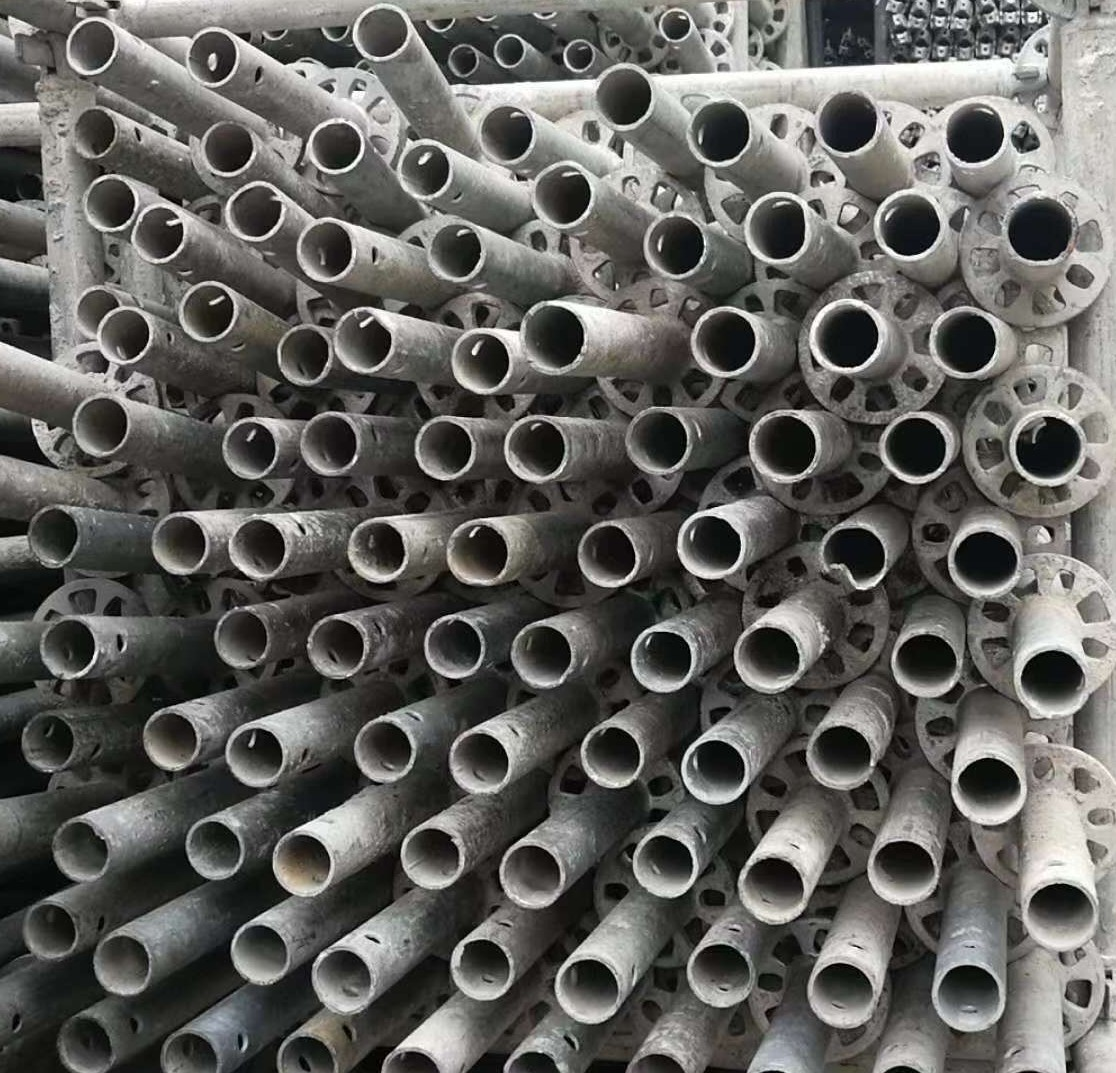circle_steel: (1003, 410, 1090, 489), (943, 521, 1026, 598), (874, 407, 953, 485), (947, 753, 1031, 826), (924, 304, 1002, 381), (745, 410, 825, 484), (811, 299, 887, 376), (1022, 877, 1100, 951), (931, 960, 1005, 1036), (624, 621, 702, 693), (732, 857, 813, 926), (741, 191, 816, 265), (1004, 192, 1077, 268), (686, 307, 764, 378), (394, 820, 469, 893), (874, 189, 946, 265), (527, 157, 598, 234), (732, 621, 806, 694), (552, 955, 627, 1027), (640, 207, 710, 284), (815, 522, 892, 592), (802, 961, 881, 1029), (1018, 644, 1090, 718), (342, 513, 413, 588), (445, 515, 515, 591), (676, 735, 748, 808), (675, 510, 749, 581), (518, 303, 588, 378), (446, 932, 518, 1004), (686, 99, 757, 172), (502, 414, 575, 485), (506, 619, 580, 689), (867, 837, 943, 905), (814, 85, 880, 163), (805, 720, 877, 791), (626, 401, 694, 476), (46, 813, 115, 886), (496, 841, 569, 910), (331, 306, 401, 377), (420, 610, 488, 683), (890, 630, 963, 698), (447, 327, 518, 396), (146, 508, 215, 579), (308, 945, 377, 1016), (592, 62, 660, 134), (942, 96, 1009, 169), (303, 612, 370, 683), (630, 834, 701, 901), (226, 513, 292, 585), (352, 713, 417, 786), (687, 940, 755, 1009), (298, 407, 363, 479), (224, 722, 291, 791), (67, 391, 133, 461), (575, 520, 641, 590), (272, 833, 340, 900), (422, 217, 488, 286), (447, 728, 513, 797), (225, 920, 292, 987), (36, 612, 101, 681), (346, 1, 416, 65), (412, 418, 482, 482), (87, 932, 158, 995), (578, 723, 645, 789), (292, 217, 360, 282), (57, 17, 127, 80), (476, 101, 540, 169), (183, 819, 251, 883), (273, 319, 334, 389), (16, 708, 79, 775), (179, 27, 247, 89), (140, 709, 204, 773), (196, 115, 258, 181), (211, 607, 276, 669), (306, 115, 369, 178), (27, 501, 83, 571), (220, 418, 281, 481), (54, 1012, 117, 1073), (94, 306, 158, 366), (398, 136, 455, 203), (130, 201, 188, 266), (224, 183, 286, 243), (21, 899, 79, 963), (180, 283, 241, 343), (82, 175, 141, 235), (154, 1026, 224, 1073), (72, 286, 129, 337), (69, 104, 119, 162), (272, 1034, 343, 1073), (496, 1049, 565, 1073), (381, 1049, 442, 1073), (626, 1052, 695, 1073)
